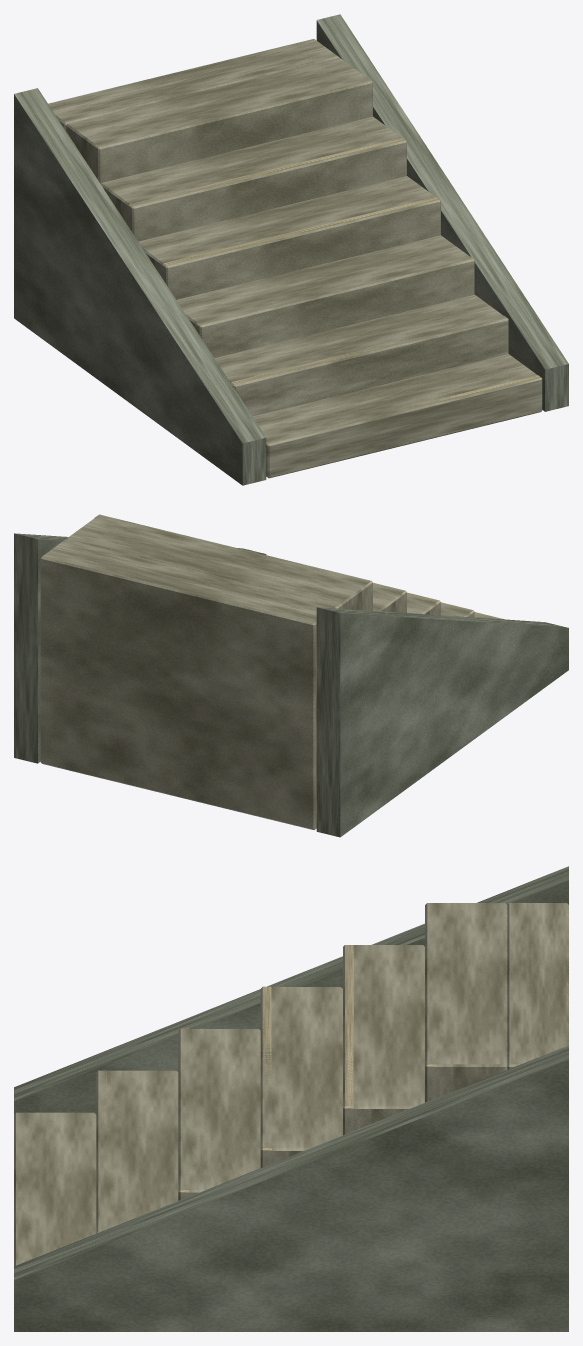
Rendered from concrete_stairs_6step.glb.
3 renders of one model, top to bottom at view 1: azimuth 30°, elevation 25°; view 2: azimuth 150°, elevation 25°; view 3: azimuth 270°, elevation 25°, orthographic. The views are drawn at different scales.
Visible parts, largest first — view 1: concrete_stairs_6step; view 2: concrete_stairs_6step; view 3: concrete_stairs_6step.
Boxes of the visible parts, x1=… form: concrete_stairs_6step: x1=14, y1=14, x2=568, y2=485; concrete_stairs_6step: x1=14, y1=514, x2=568, y2=837; concrete_stairs_6step: x1=14, y1=866, x2=568, y2=1331.
Bounding box in the file's own units: 1.78 × 1.17 × 2.16.
1 material, 1 textured.
